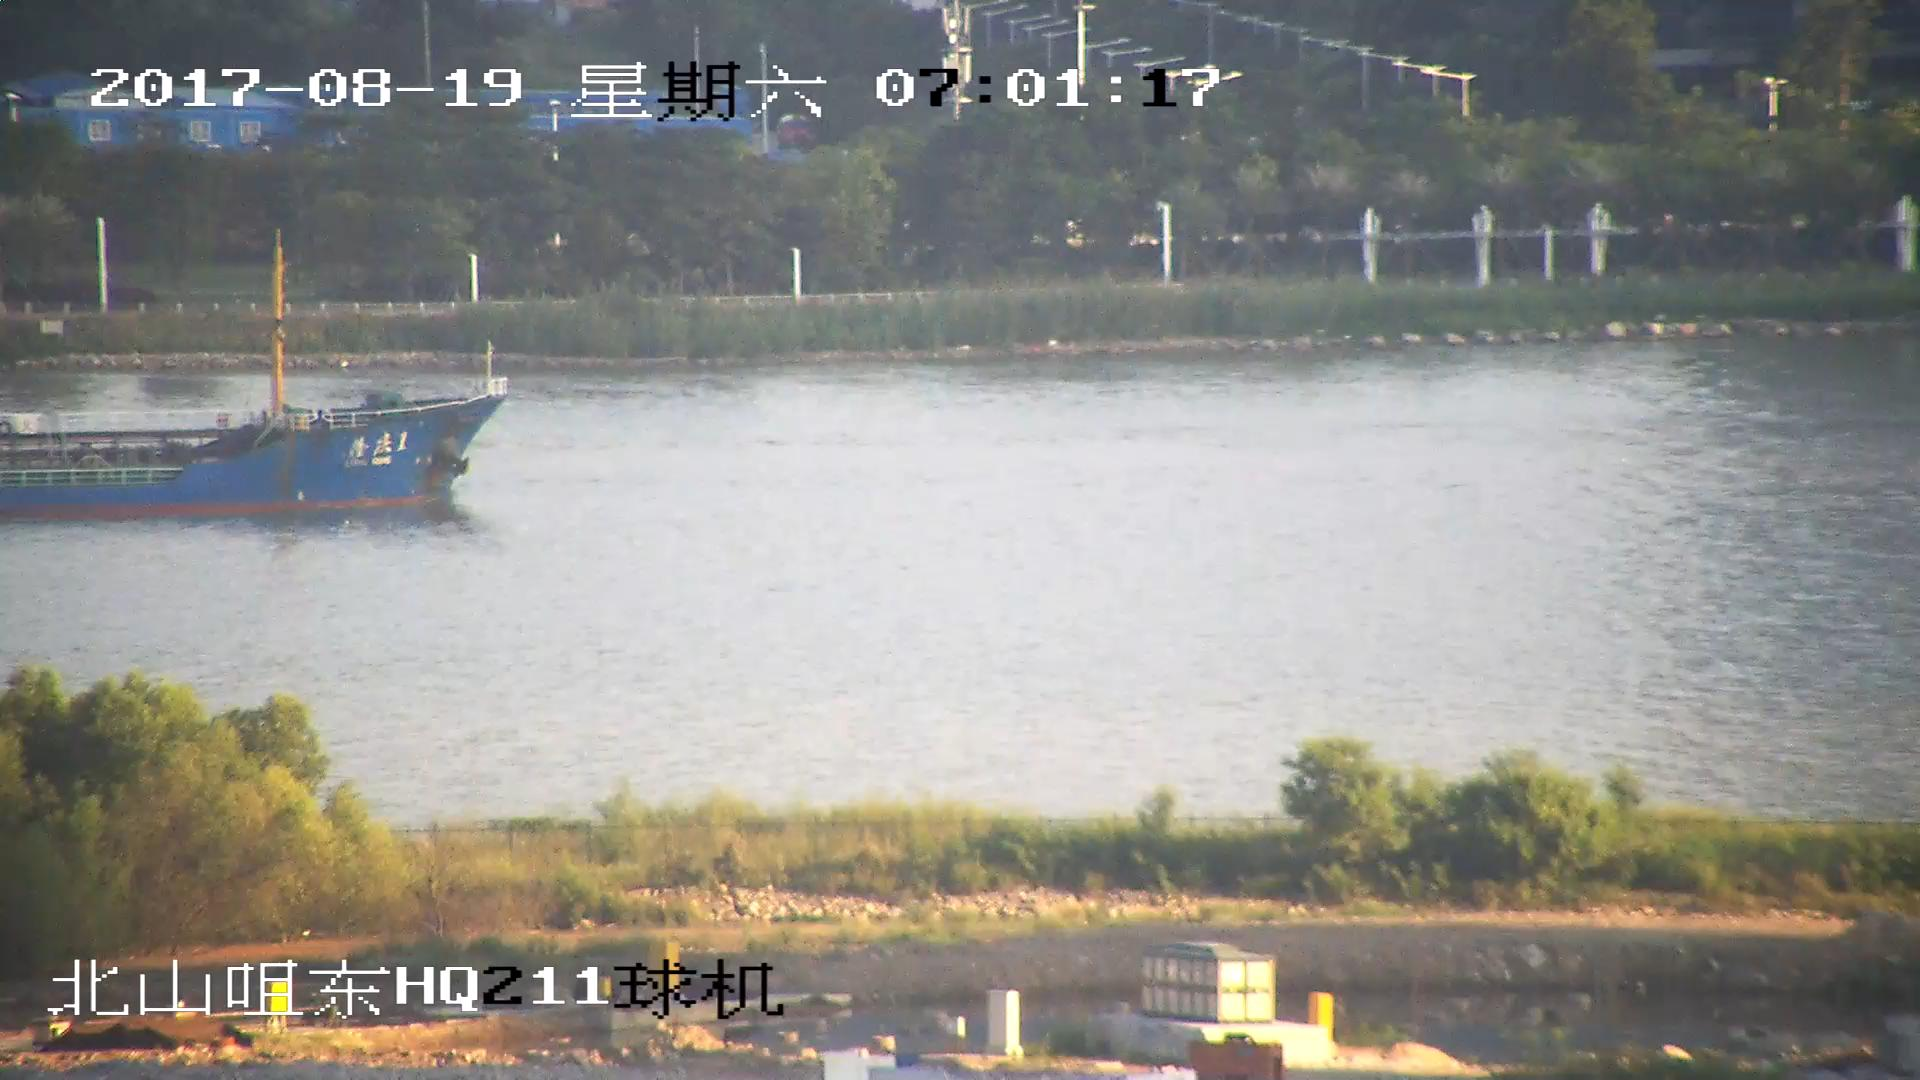general cargo ship: (1, 232, 489, 526)
